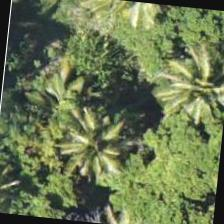Kelapa_Sawit: (48, 102, 148, 201), (149, 34, 223, 133)
